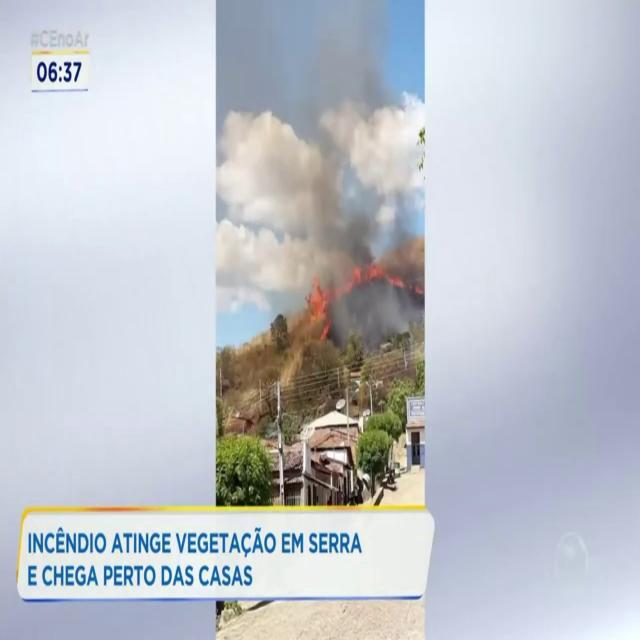Fire: (302, 282, 336, 324)
